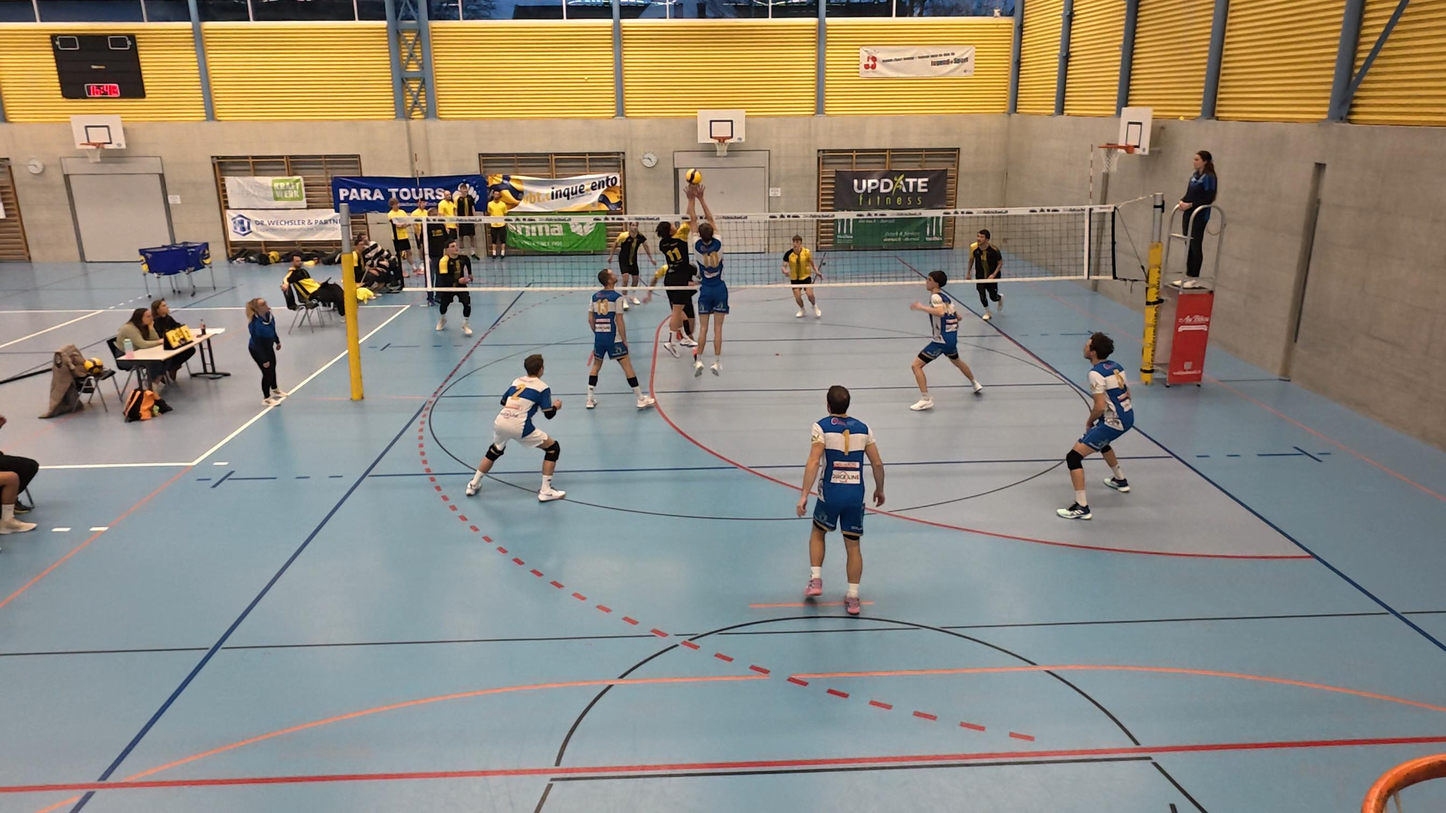alzata: (654, 178, 698, 360)
muro: (679, 197, 727, 373)
